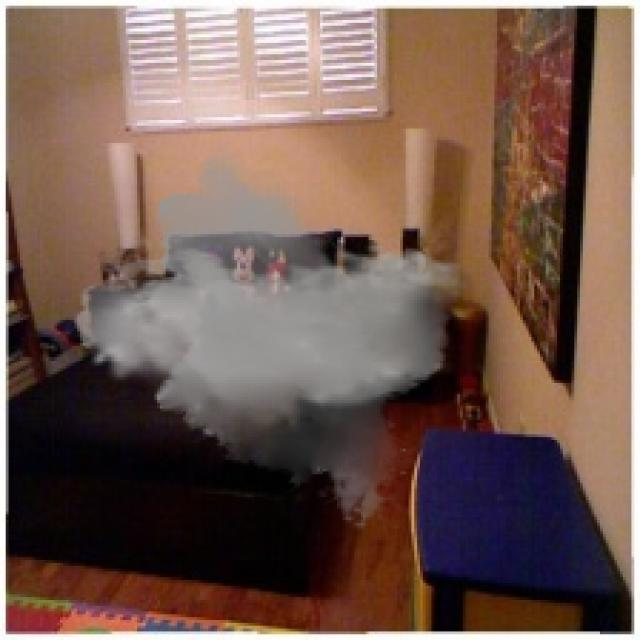Smoke: (74, 143, 466, 532)
